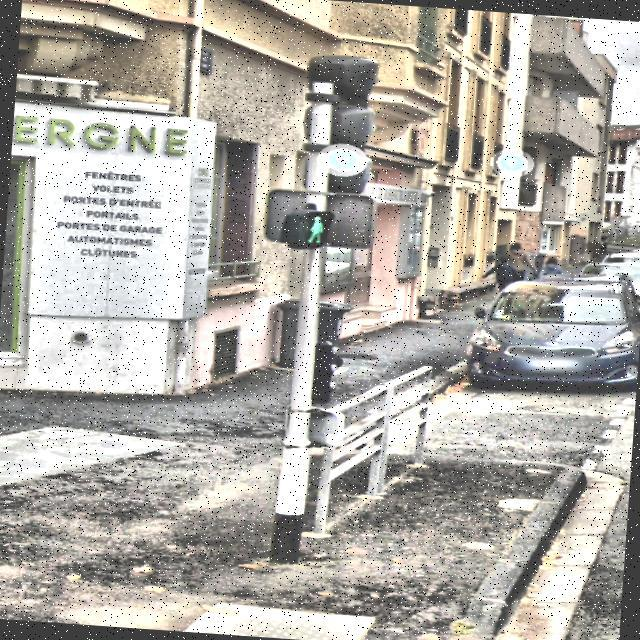green_light: (302, 211, 326, 244)
